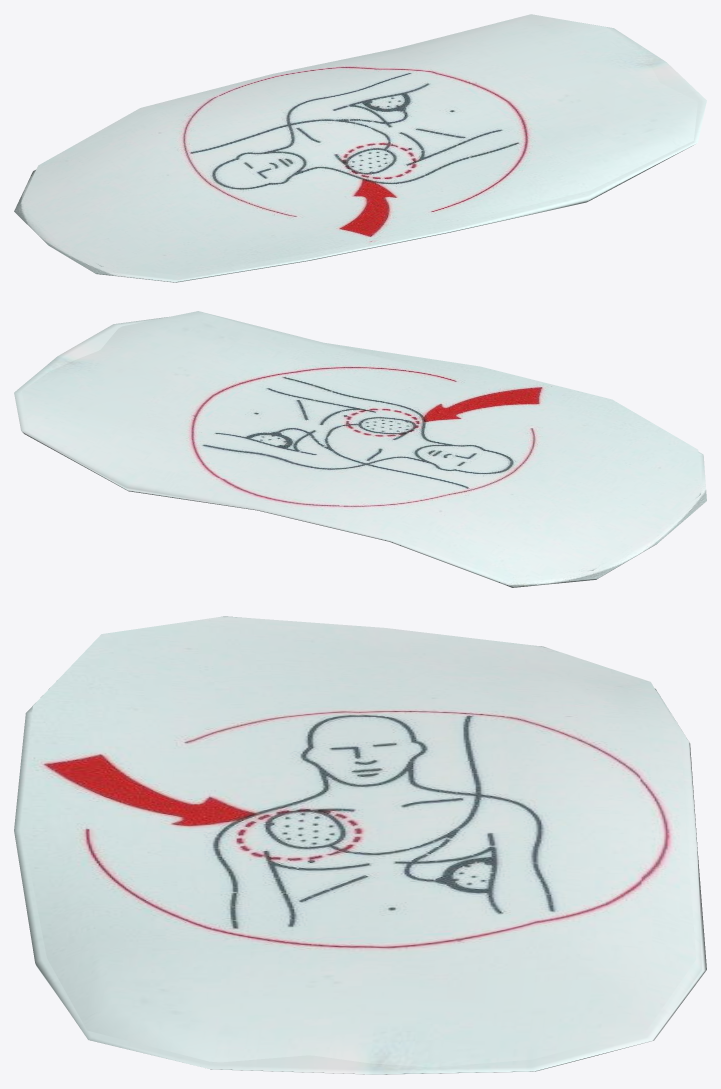
The model's file is Dea_Parche_Pecho.fbx.
3 renders of one model, top to bottom at view 1: azimuth 30°, elevation 25°; view 2: azimuth 150°, elevation 25°; view 3: azimuth 270°, elevation 25°, orthographic. The views are drawn at different scales.
Visible parts, largest first — view 1: Cube.012; view 2: Cube.012; view 3: Cube.012.
Part boxes in pixels (x1=…): Cube.012: x1=14, y1=14, x2=706, y2=282; Cube.012: x1=14, y1=311, x2=706, y2=587; Cube.012: x1=14, y1=616, x2=706, y2=1074.
Bounding box in the file's own units: 0.13 × 0.00949 × 0.0758.
Materials: 1 (1 with a texture image).
